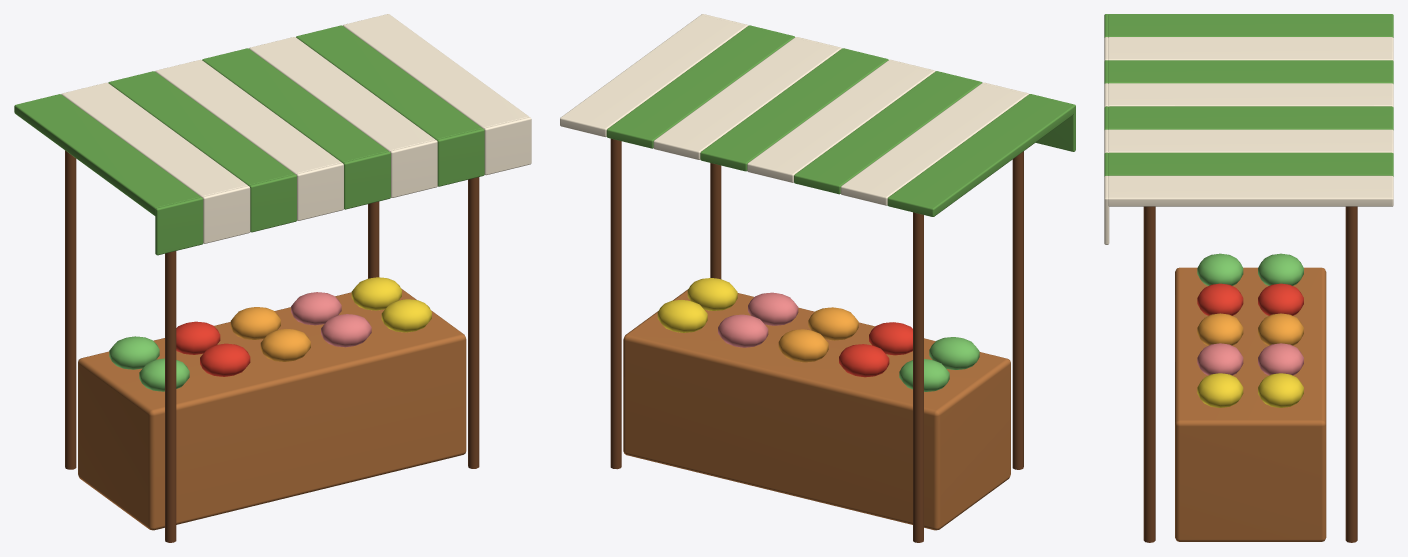
The model's file is market_stall.glb.
The picture shows the model from 3 angles, left to right: view 1: azimuth 30°, elevation 25°; view 2: azimuth 150°, elevation 25°; view 3: azimuth 270°, elevation 25°; orthographic projection.
Visible parts, largest first — view 1: Table, Roof0, Roof1, Roof2, Roof3, Roof4, Roof5, Roof6, Roof7, Pole.001, Pole, Pole.002 (+19 smaller); view 2: Table, Roof0, Roof4, Roof6, Roof1, Roof5, Roof2, Roof3, Roof7, Pole.003, Pole, Pole.001 (+12 smaller); view 3: Table, Roof7, Roof3, Roof4, Roof5, Roof1, Roof2, Roof6, Roof0, Pole.002, Pole.003, Goods.008 (+10 smaller).
Boxes of the visible parts, box(x1,y1,x2,y2) form: Table: box(78, 288, 466, 530); Roof0: box(14, 94, 200, 215); Roof1: box(61, 82, 247, 197); Roof2: box(108, 71, 294, 185); Roof3: box(155, 59, 341, 174); Roof4: box(202, 48, 388, 162); Roof5: box(249, 37, 435, 151); Roof6: box(296, 25, 482, 139); Roof7: box(343, 14, 528, 128); Pole.001: box(65, 150, 76, 469); Pole: box(165, 251, 176, 542); Pole.002: box(468, 177, 479, 468); Table: box(623, 289, 1010, 530); Roof0: box(887, 95, 1074, 216); Roof4: box(700, 49, 886, 171); Roof6: box(606, 26, 793, 148); Roof1: box(840, 83, 1027, 205); Roof5: box(653, 38, 839, 159); Roof2: box(794, 72, 980, 194); Roof3: box(747, 61, 933, 182); Roof7: box(560, 15, 746, 137); Pole.003: box(610, 138, 621, 469); Pole: box(1012, 151, 1023, 469); Pole.001: box(913, 212, 923, 542); Table: box(1175, 267, 1326, 541); Roof7: box(1108, 175, 1393, 206); Roof3: box(1108, 83, 1393, 107); Roof4: box(1108, 106, 1393, 130); Roof5: box(1108, 129, 1393, 153); Roof1: box(1108, 37, 1393, 60); Roof2: box(1108, 60, 1393, 83); Roof6: box(1108, 152, 1393, 176); Roof0: box(1108, 14, 1393, 37); Pole.002: box(1143, 206, 1155, 542); Pole.003: box(1345, 206, 1357, 542); Goods.008: box(1197, 373, 1243, 407).
Size of the model in its own units: 2.6 by 2.36 by 1.72.
